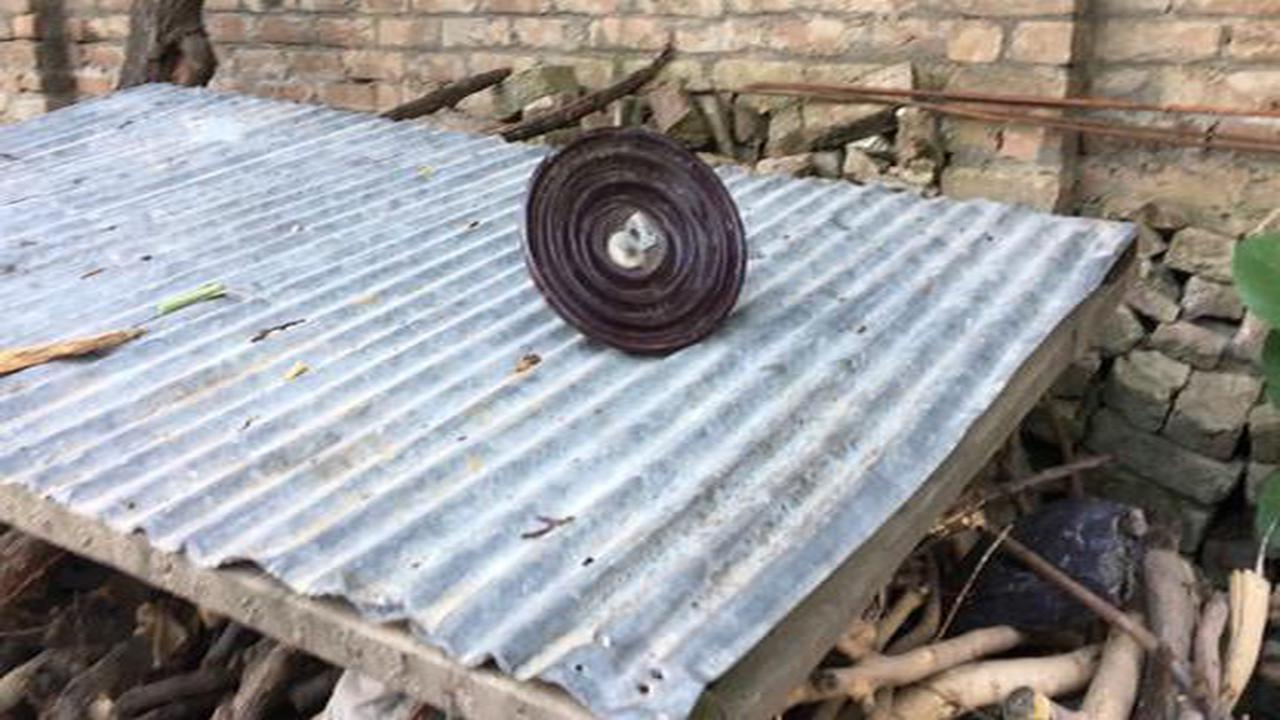insulator_disc: (519, 121, 748, 360)
